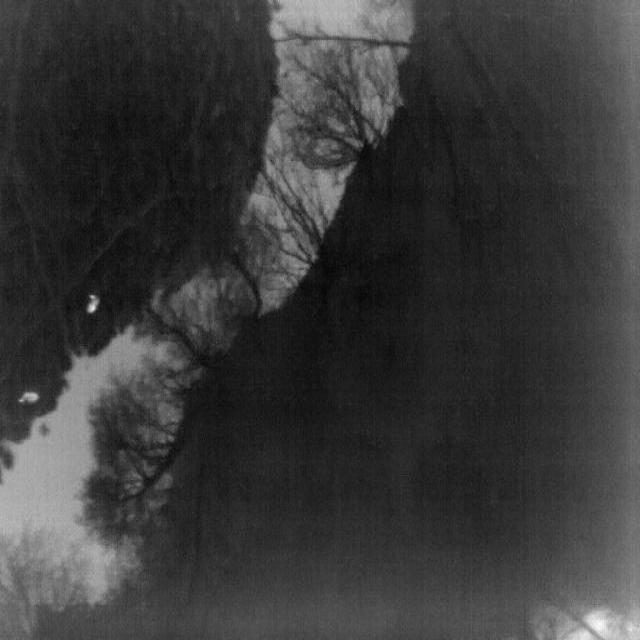deer: (85, 293, 101, 314), (18, 391, 40, 403)
